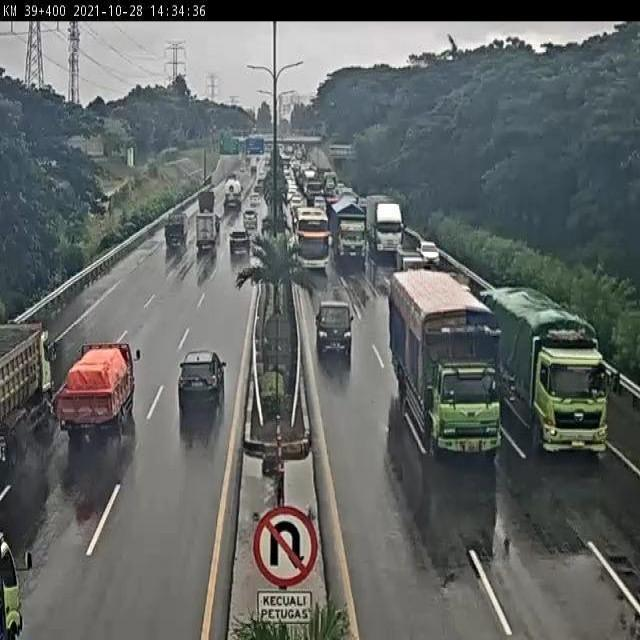big bus: (293, 208, 330, 271)
big truck: (480, 289, 619, 455), (386, 268, 505, 457), (329, 195, 370, 264), (364, 188, 402, 255)
car: (177, 352, 227, 415), (314, 299, 353, 349), (227, 228, 250, 259), (415, 236, 437, 263), (241, 207, 258, 229)
small truck: (54, 337, 144, 443), (162, 212, 190, 249), (196, 213, 219, 252), (194, 188, 215, 217)
